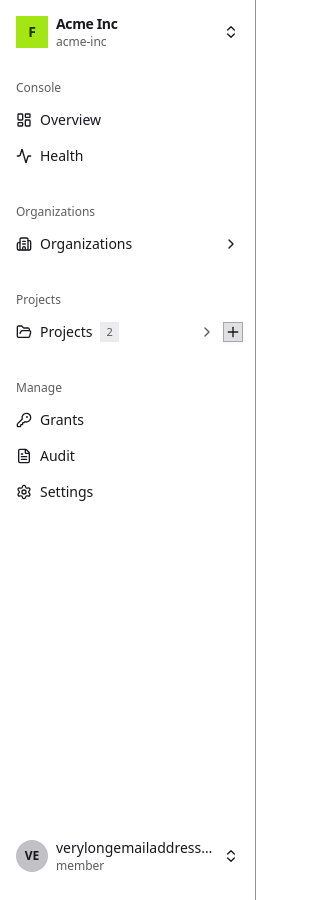
Test: sidebar user menu › lists the organization subpaths (All organizations + Members)
Expected: the link "All organizations" is not shown
Click the button "Organizations" at (128, 244), box [8,228,247,260]
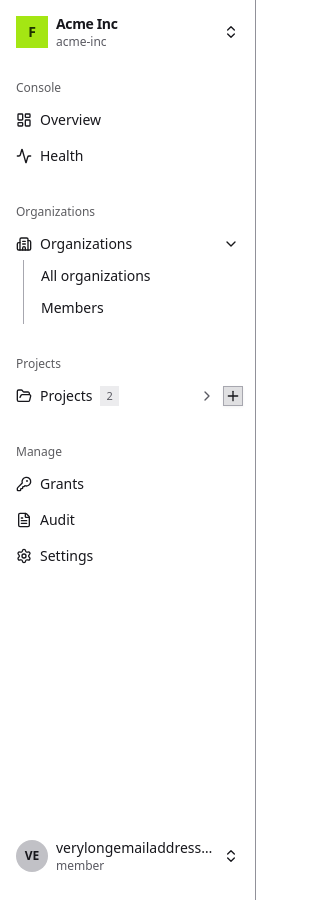
Now the link "All organizations" is shown, box [41,266,151,285]
